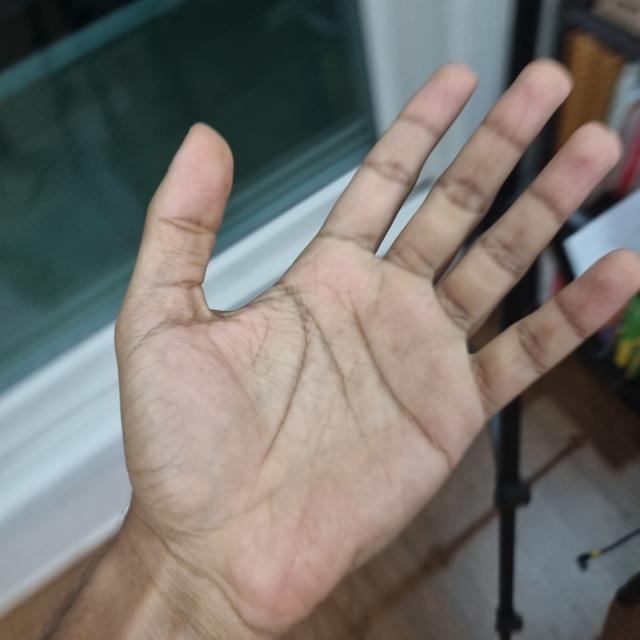Paper: (243, 62, 639, 616)
